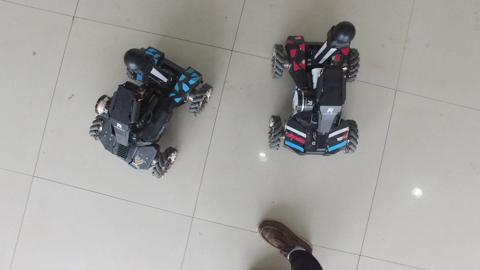chariot: (82, 39, 215, 187), (256, 18, 370, 167)
